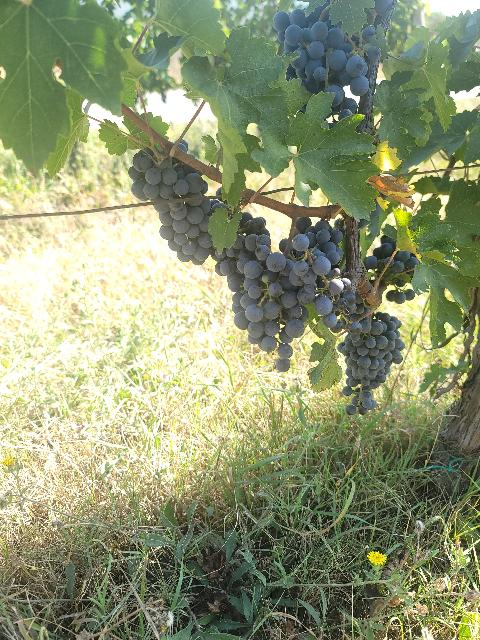grapes: (245, 234, 332, 371), (272, 10, 369, 120), (129, 150, 212, 265), (336, 312, 405, 415), (212, 211, 271, 318)
